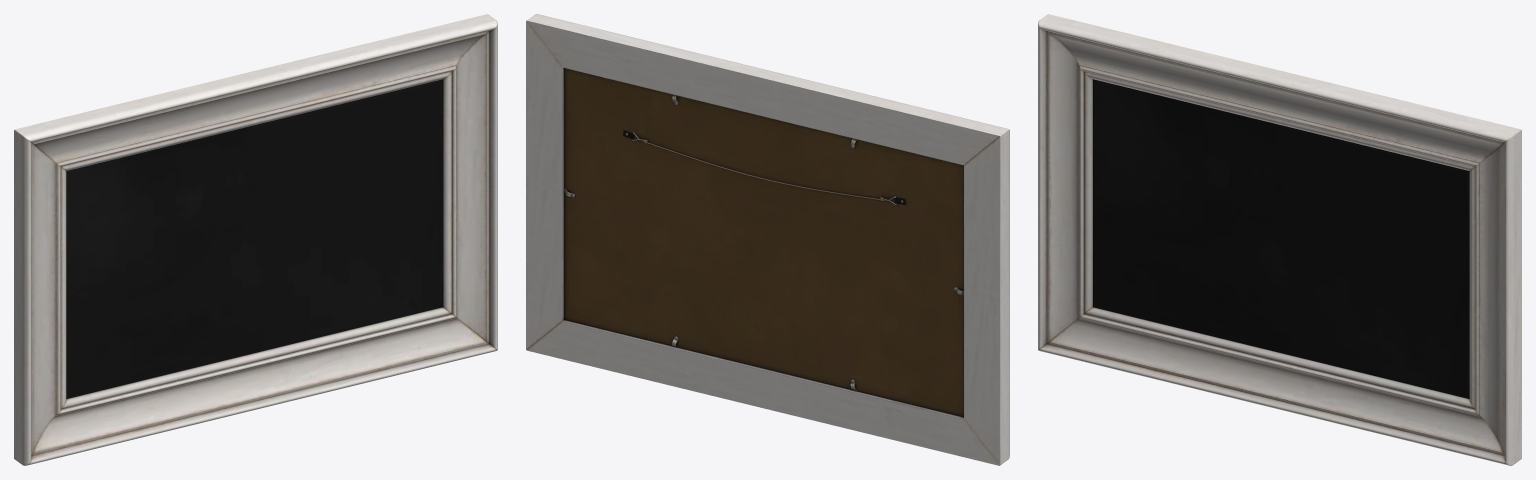
File: hanging_picture_frame_02.glb
The picture shows the model from 3 angles, left to right: view 1: azimuth 30°, elevation 25°; view 2: azimuth 150°, elevation 25°; view 3: azimuth 330°, elevation 25°; orthographic projection.
Visible parts, largest first — view 1: hanging_picture_frame_02; view 2: hanging_picture_frame_02; view 3: hanging_picture_frame_02.
Part boxes in pixels (x1,y1,x2,y2): hanging_picture_frame_02: (14, 14, 497, 465); hanging_picture_frame_02: (526, 14, 1009, 465); hanging_picture_frame_02: (1038, 14, 1521, 465).
Bounding box in the file's own units: 0.7518 × 0.5 × 0.0331.
3 materials, 3 textured.
